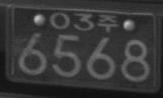0: (48, 11, 70, 30)
3: (73, 12, 93, 31)
5: (52, 33, 81, 78)
6: (17, 32, 47, 76), (86, 37, 116, 80)
8: (120, 38, 150, 83)
주: (97, 13, 118, 33)
